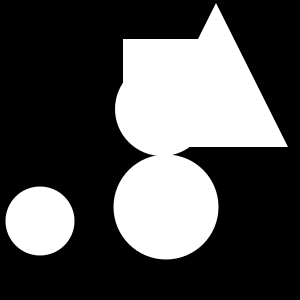circle: (123, 39, 217, 133)
rectangle: (114, 154, 218, 260), (115, 62, 209, 156), (5, 186, 74, 256)
triangle: (144, 3, 288, 147)
